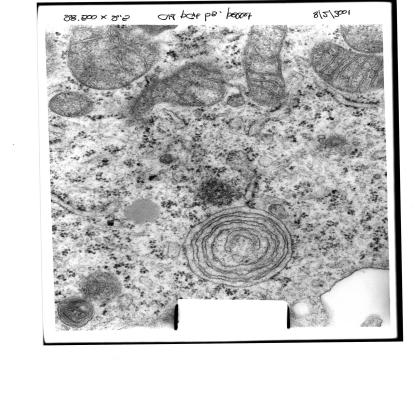mitochondria: (67, 25, 159, 90), (131, 64, 227, 125), (242, 26, 291, 104), (310, 42, 382, 92), (336, 24, 382, 52), (48, 91, 95, 118)
